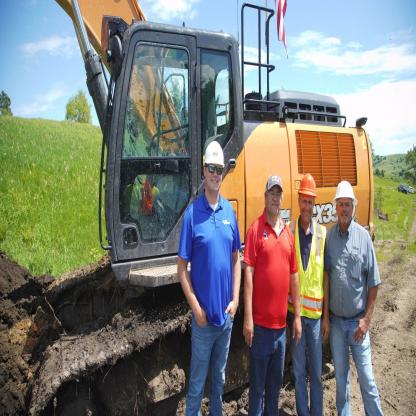person: (175, 122, 239, 416), (324, 174, 390, 413), (243, 164, 300, 416), (294, 169, 328, 416)
